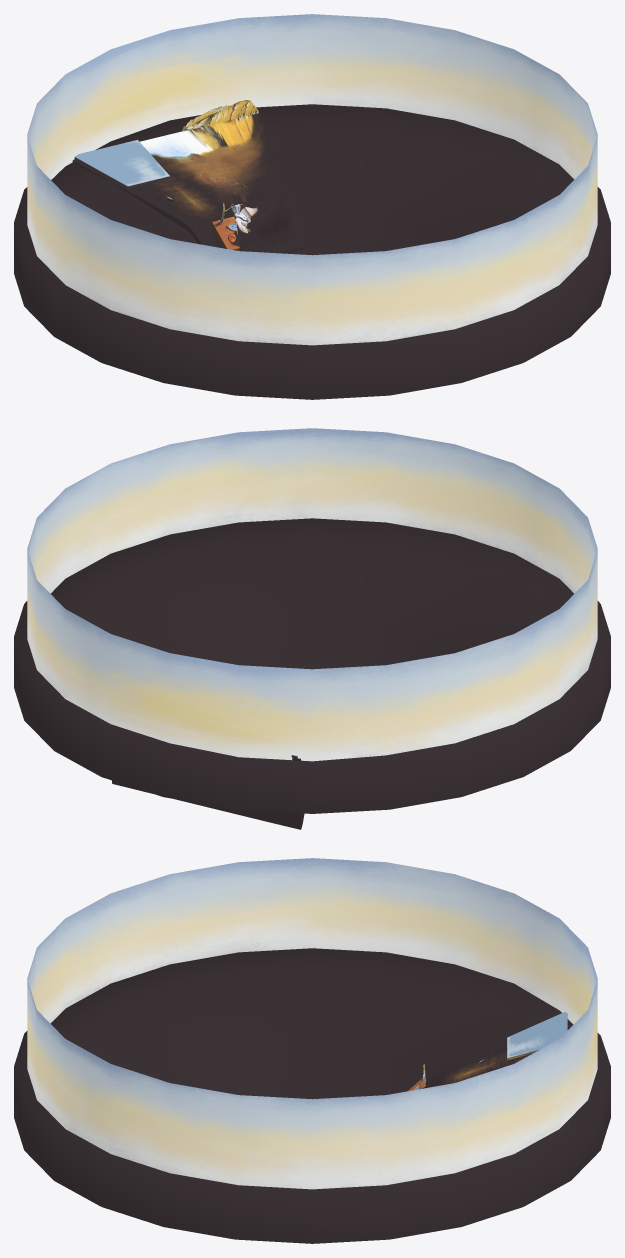
The model's file is dalithe_persistence_of_memory-old.glb.
3 views of the same model, one above another, from view 1: azimuth 30°, elevation 25°; view 2: azimuth 150°, elevation 25°; view 3: azimuth 270°, elevation 25° (orthographic).
Parts seen in each view (by area): view 1: Cylinder006, Cylinder007, Line004, Line007, Line006_05 - Default_0, Box001; view 2: Cylinder006, Cylinder007, Line004; view 3: Cylinder006, Cylinder007, Line004, Line007.
Part boxes in pixels (box(x1,y1,x2,y2)): Cylinder006: box(27, 14, 597, 345); Cylinder007: box(14, 104, 610, 399); Line004: box(72, 113, 304, 253); Line007: box(74, 139, 169, 188); Line006_05 - Default_0: box(182, 100, 258, 131); Box001: box(212, 216, 239, 250); Cylinder006: box(27, 428, 597, 761); Cylinder007: box(14, 518, 610, 813); Line004: box(112, 757, 304, 829); Cylinder006: box(27, 858, 597, 1189); Cylinder007: box(14, 948, 610, 1243); Line004: box(425, 1039, 532, 1087); Line007: box(507, 1012, 567, 1060).
Size of the model in its own units: 24.3 by 7.21 by 24.3.
Materials: 8 (8 with a texture image).
